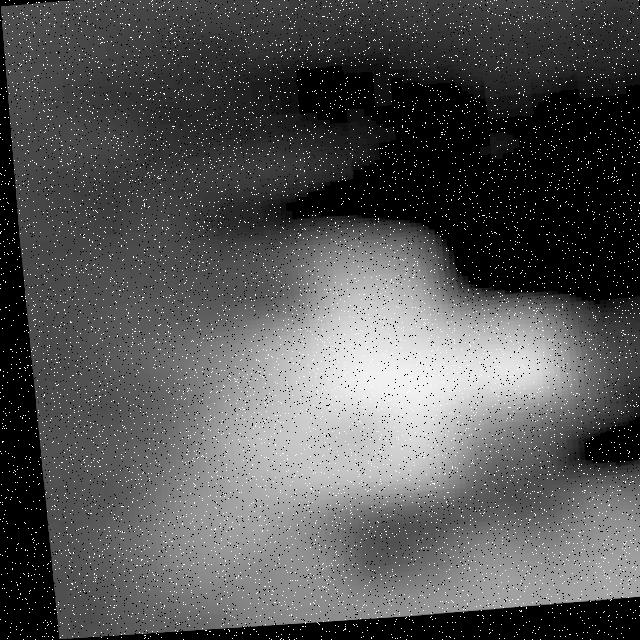person: (153, 216, 612, 515)
